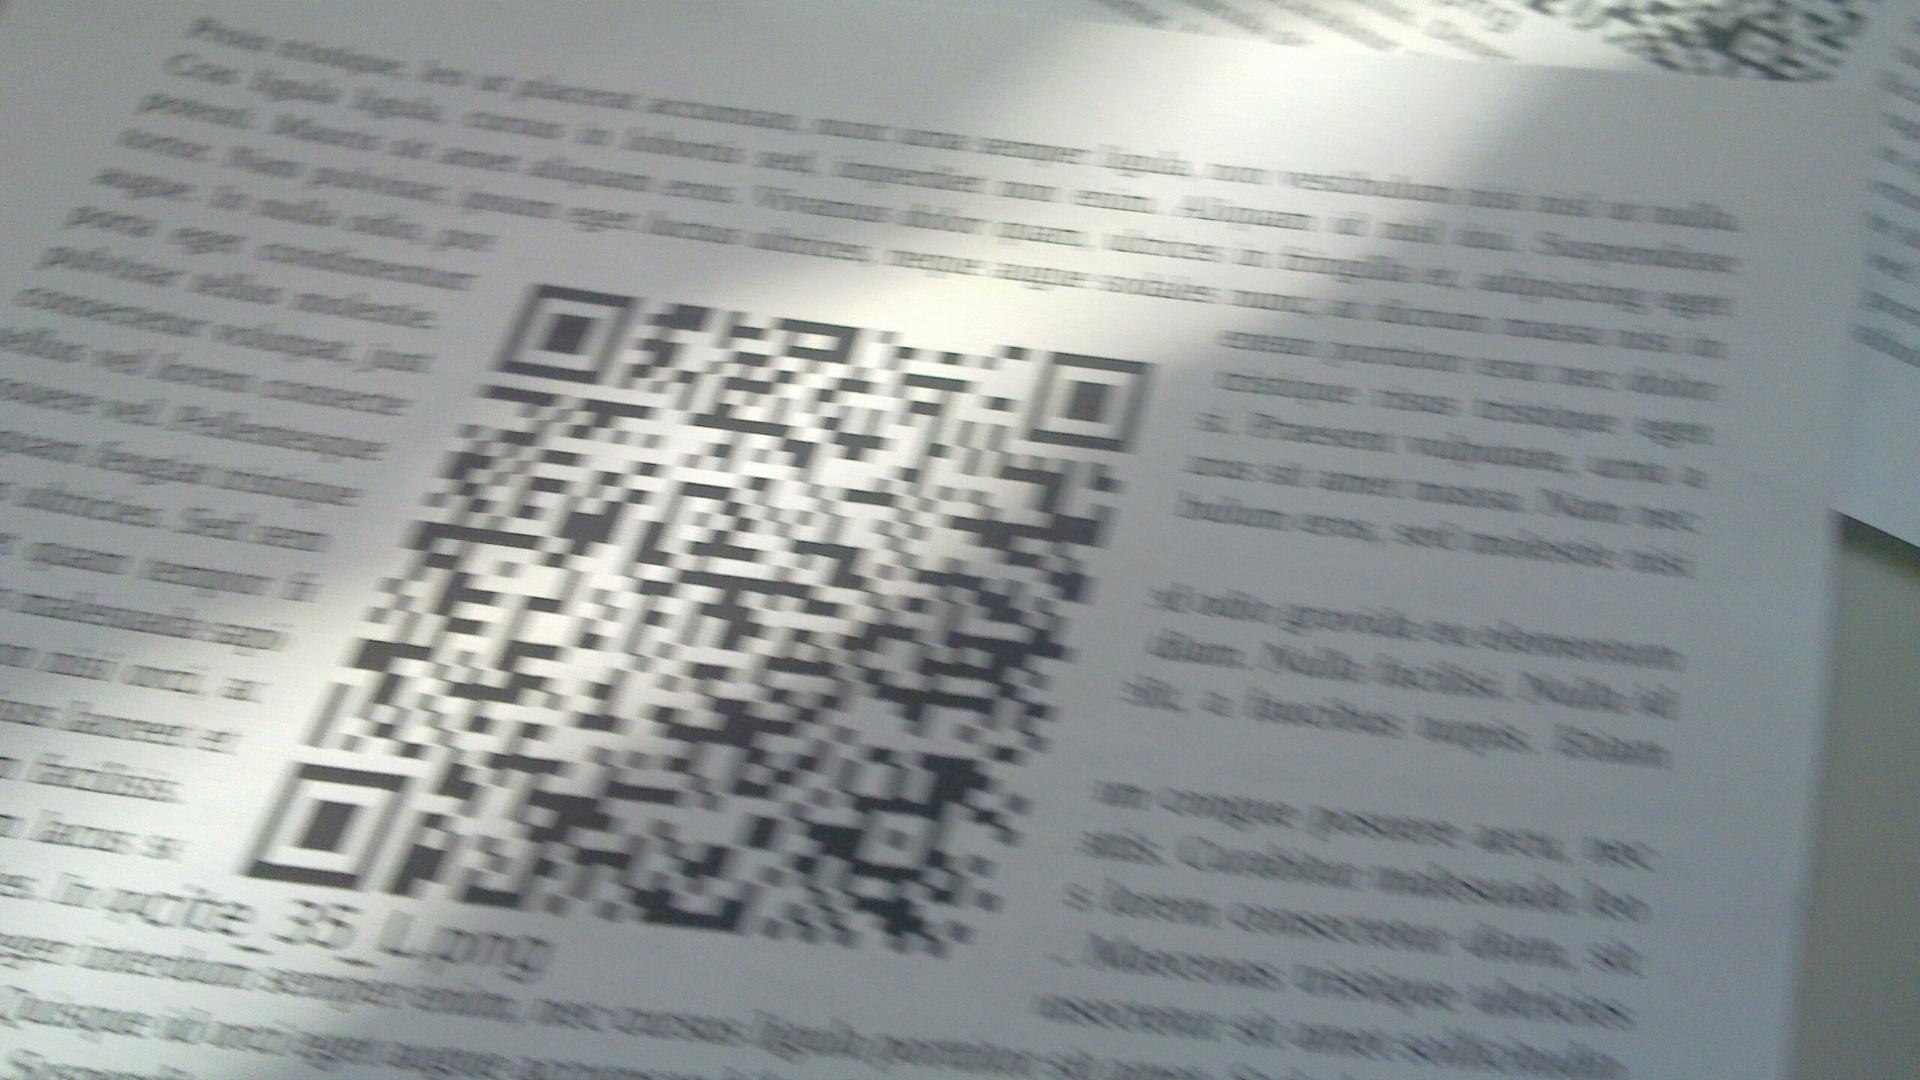Finder pattern: (252, 766, 400, 895), (498, 282, 633, 386), (1025, 349, 1154, 456)
